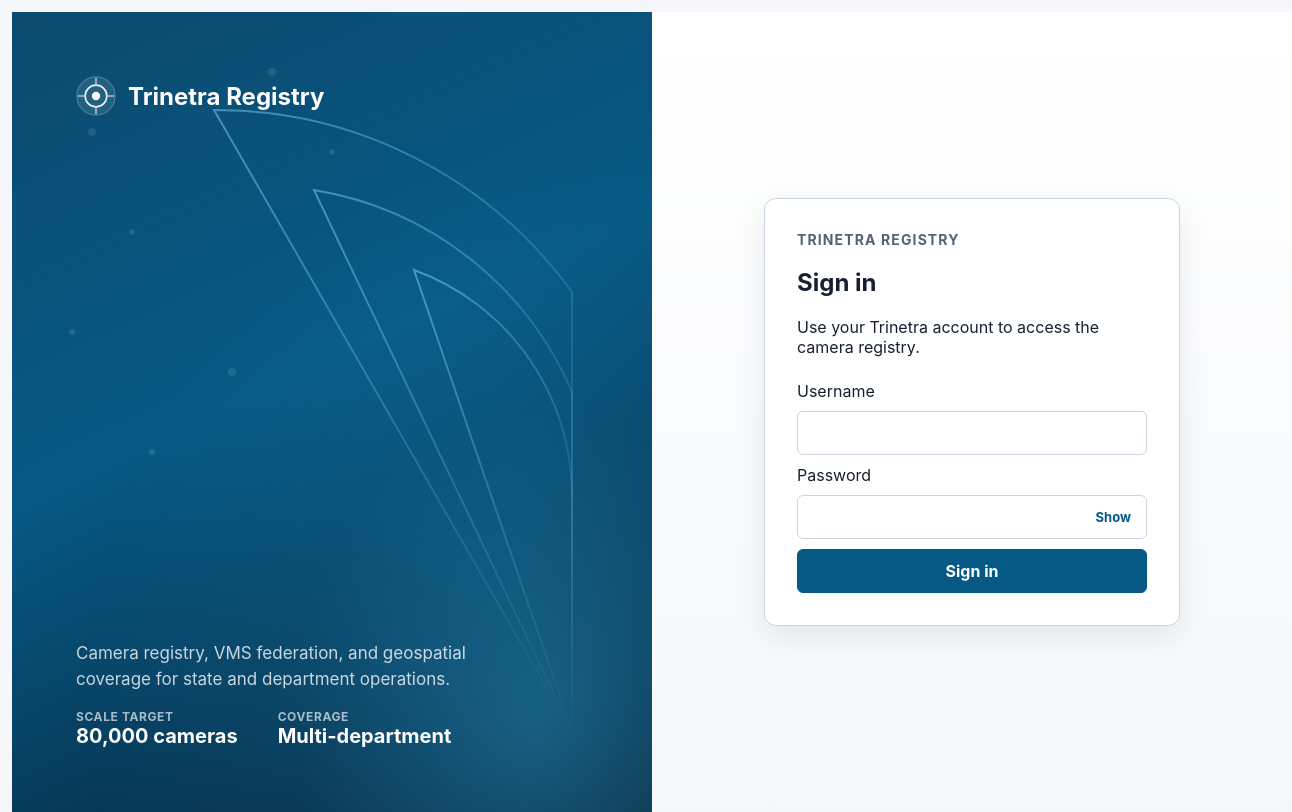
Test case: LoginPage › routes a password-rotation session to the password form
Type "admin" into the field labelled "Username".
click(972, 433); type("admin")  # box x1=797 y1=411 x2=1147 y2=455
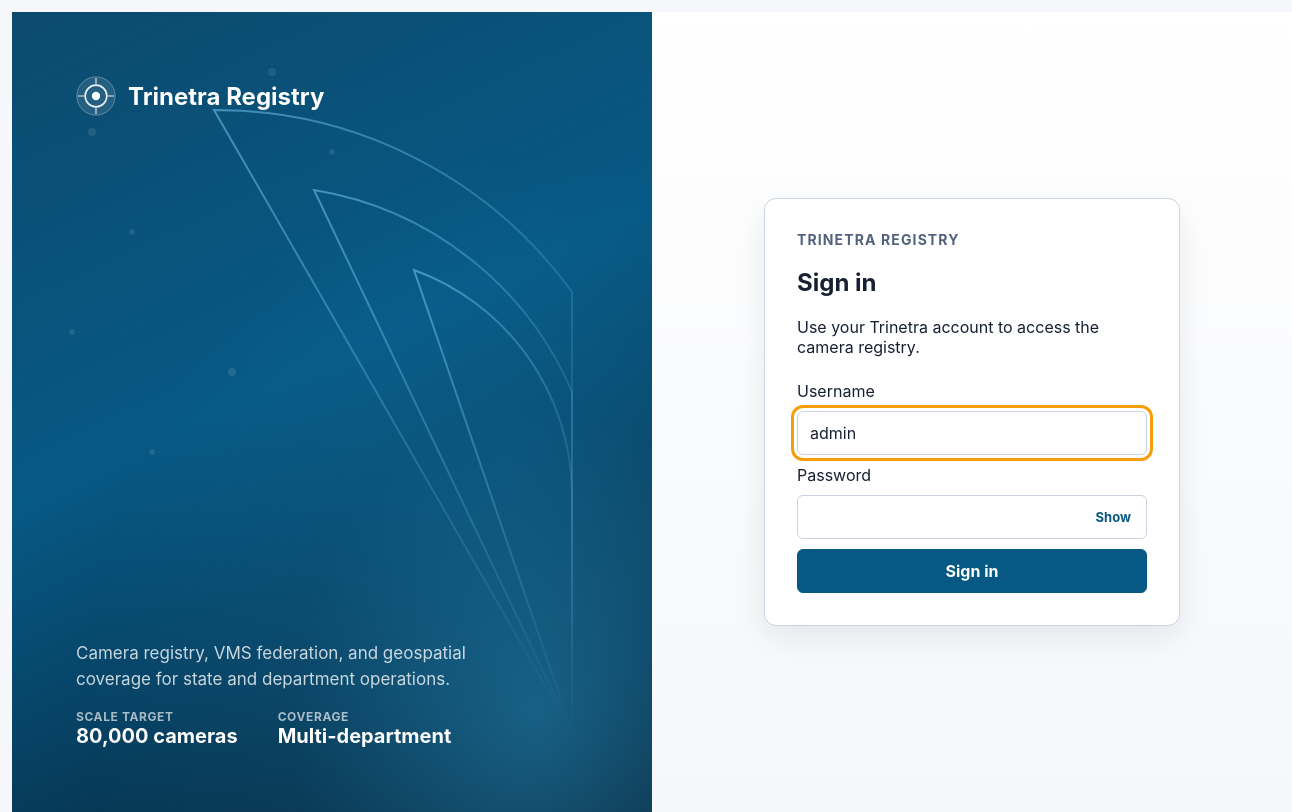
Type "valid password" into the password field labelled "Password".
click(972, 517); type("valid password")  # box x1=797 y1=495 x2=1147 y2=539
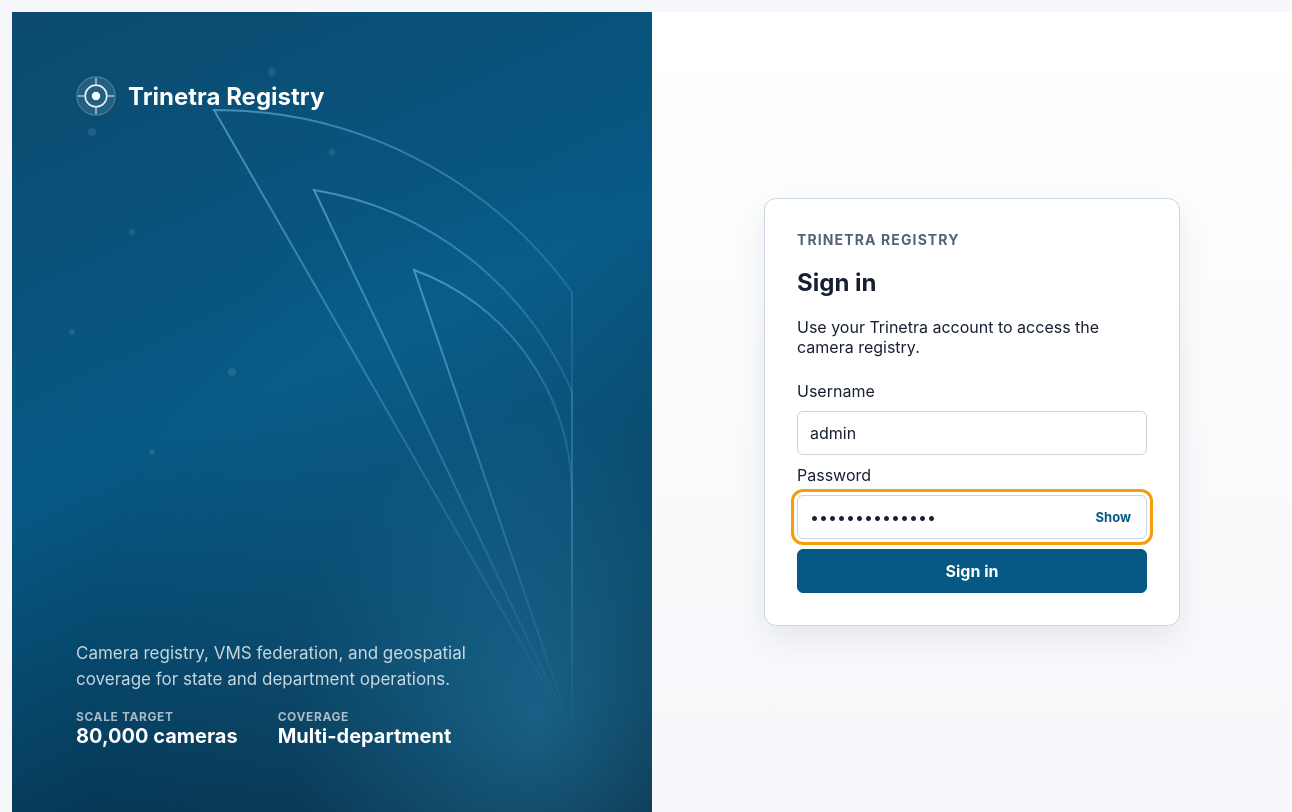
Click the button "Sign in".
click(972, 571)  # box x1=797 y1=549 x2=1147 y2=593
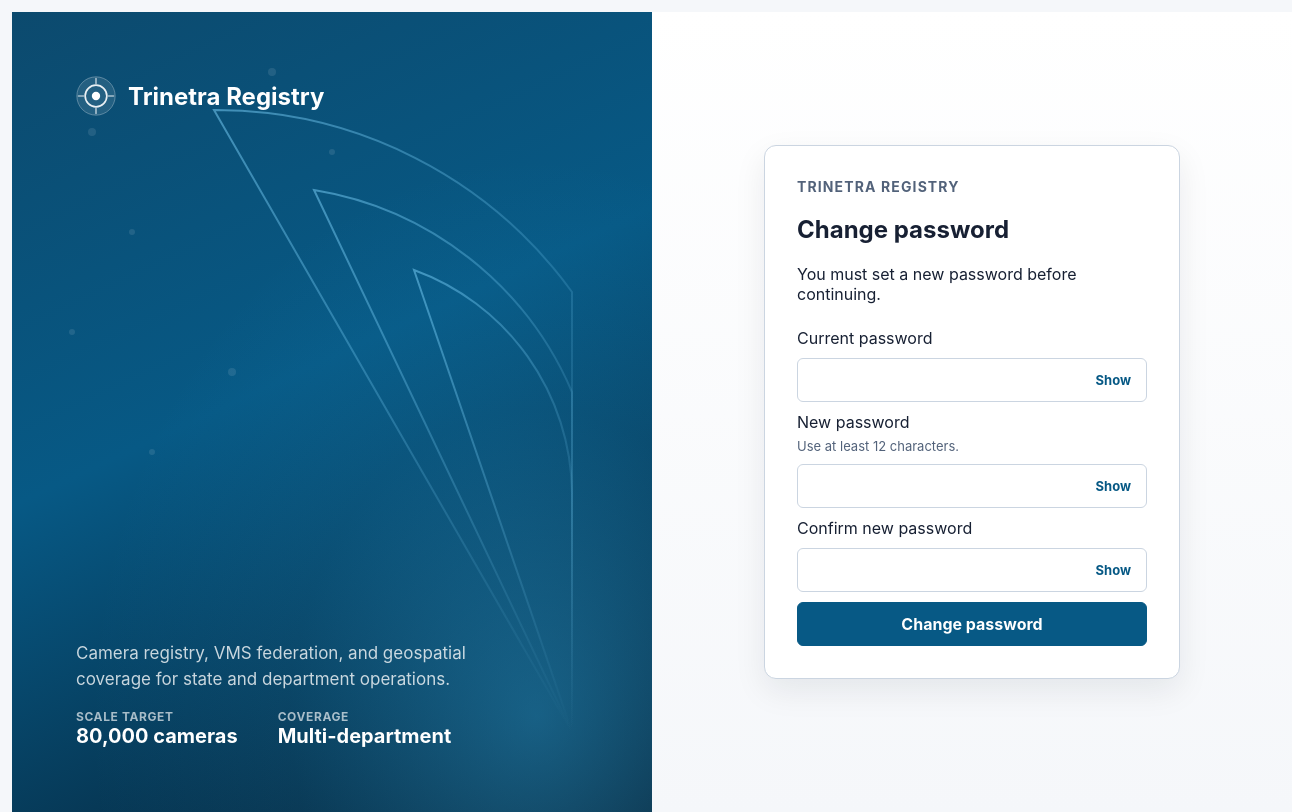
expect the heading "Change password" is shown: met, box x1=797 y1=215 x2=1009 y2=244
